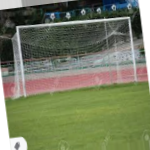goals: (9, 16, 138, 97)
